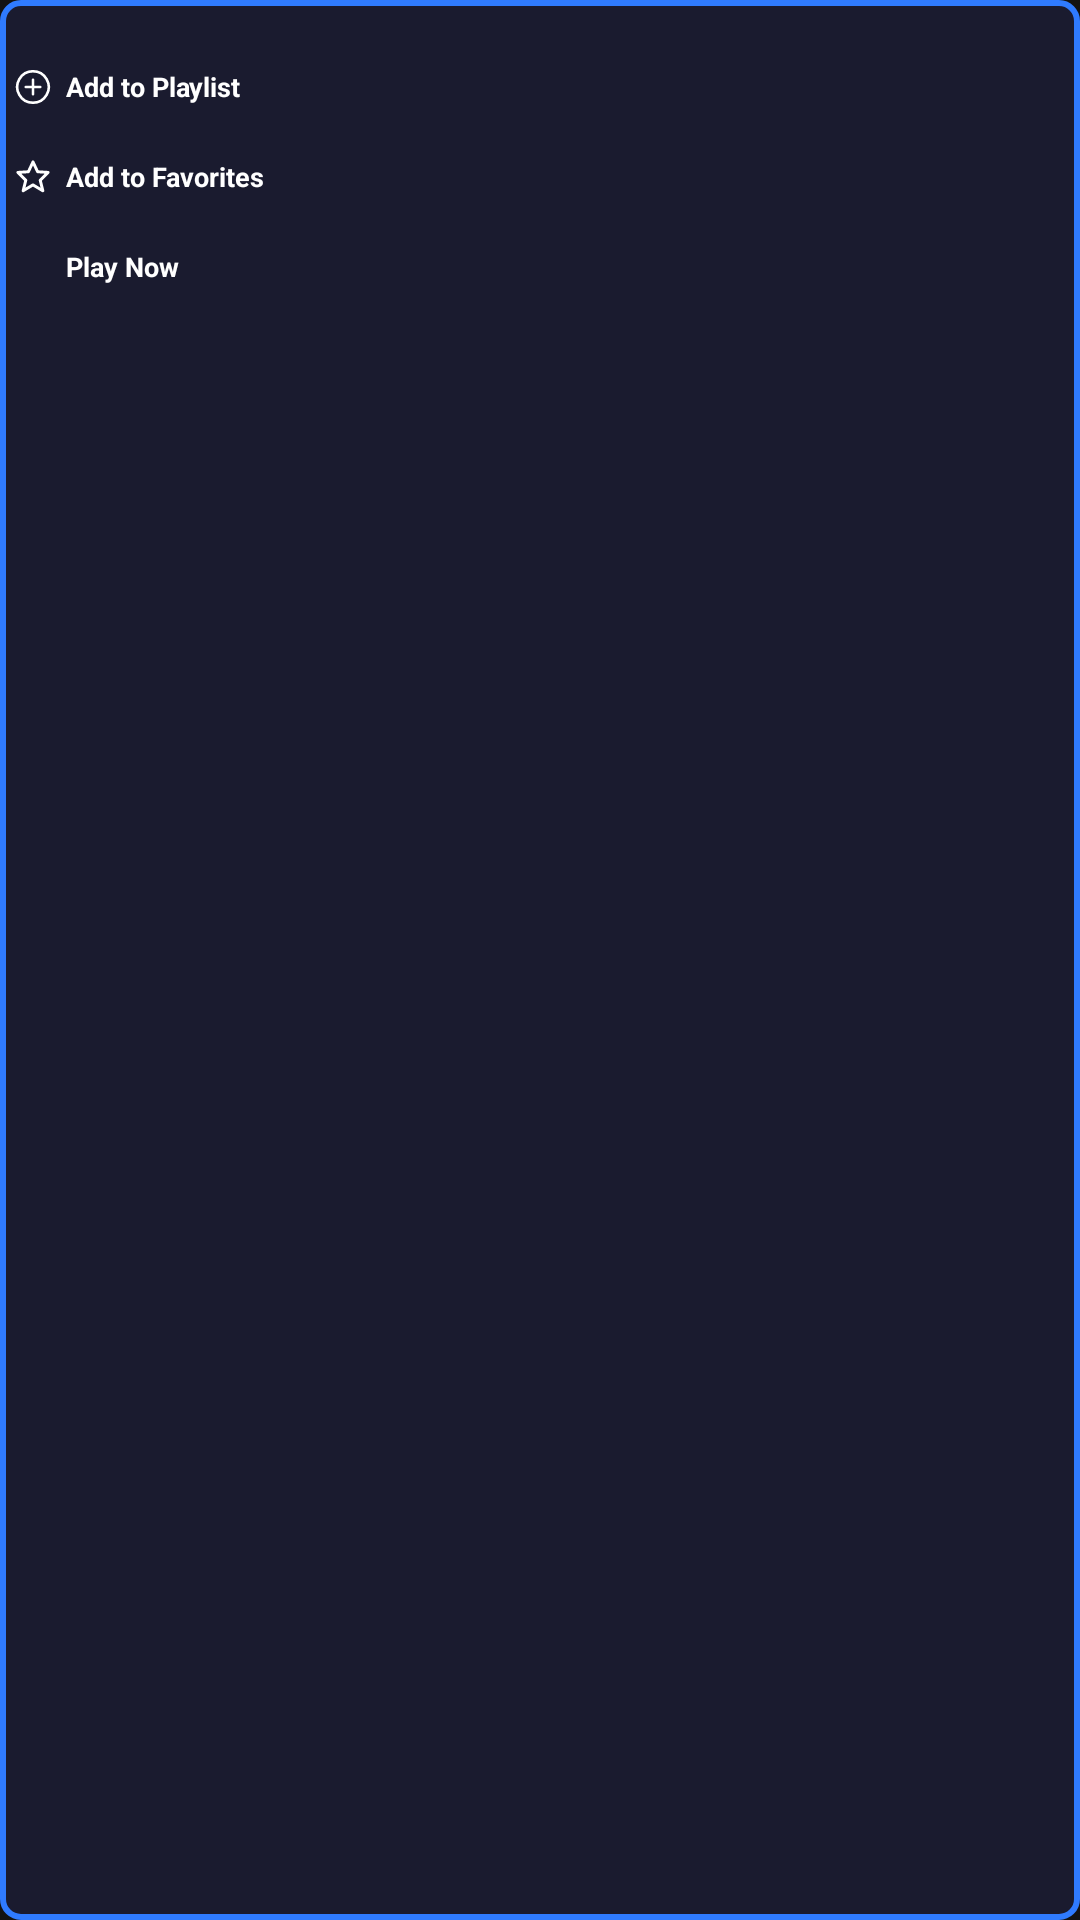

Icon click points for this 1080 x 1920 phone screenshot, format [x,y]:
favorite border: [33,176]
